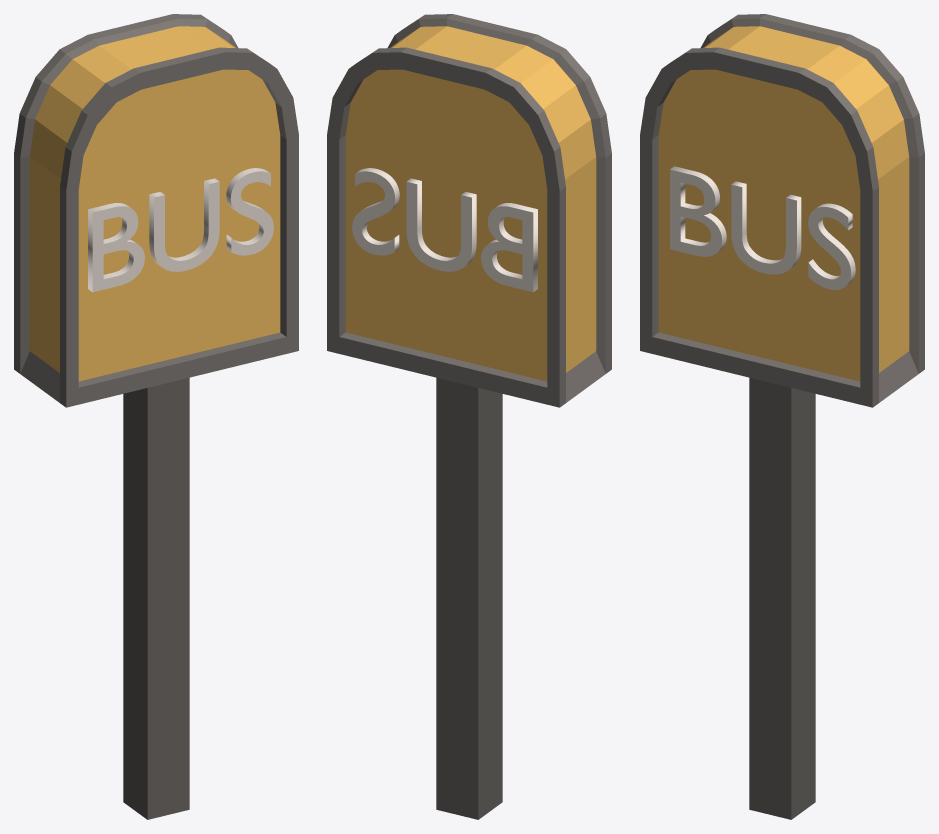
Rendered from Bushaltestelle.fbx.
3 renders of one model, left to right at view 1: azimuth 30°, elevation 25°; view 2: azimuth 150°, elevation 25°; view 3: azimuth 330°, elevation 25°, orthographic.
Visible parts, largest first — view 1: Cube.004; view 2: Cube.004; view 3: Cube.004.
Part boxes in pixels (bbox=[...]): Cube.004: bbox=[14, 14, 298, 819]; Cube.004: bbox=[327, 14, 611, 819]; Cube.004: bbox=[640, 14, 924, 819].
Bounding box in the file's own units: 1103 × 3452 × 428.
